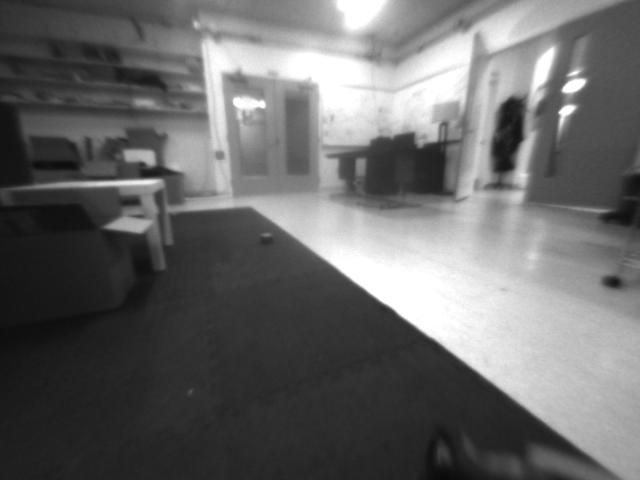dogtoy: (252, 226, 278, 249)
